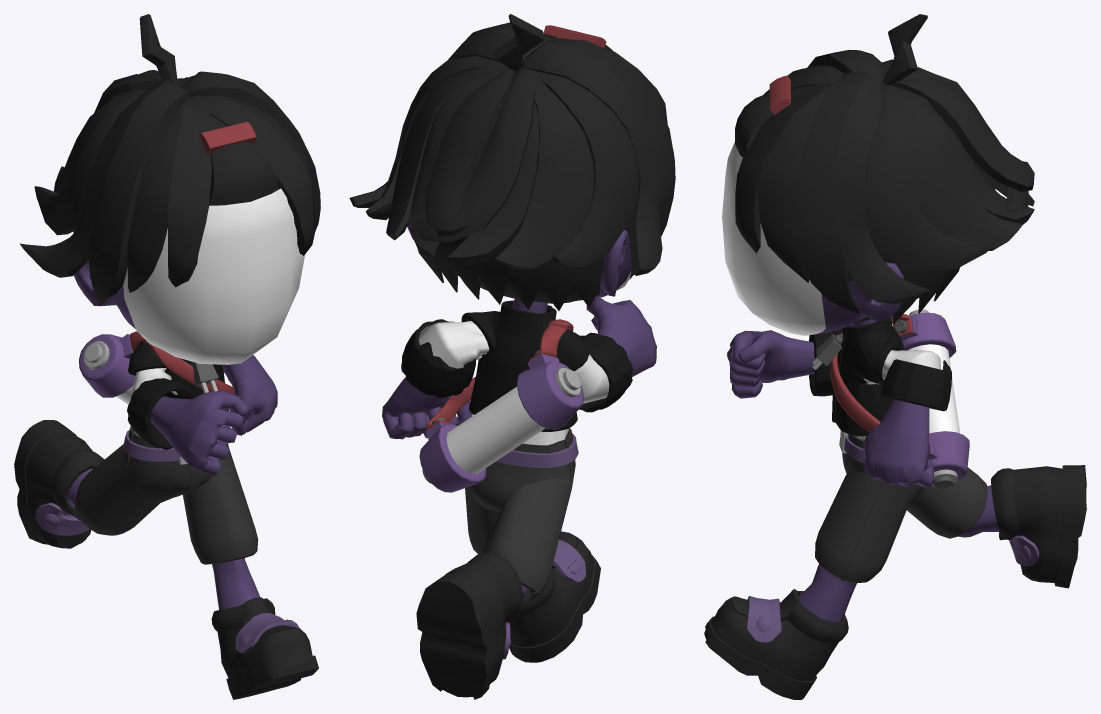
The model's file is E_run_01.fbx.
The picture shows the model from 3 angles, left to right: view 1: azimuth 30°, elevation 25°; view 2: azimuth 150°, elevation 25°; view 3: azimuth 270°, elevation 25°; orthographic projection. The views are drawn at different scales.
Parts seen in each view (by area): view 1: pPlane3, hair_mae, hair_yoko, zubonn, body4, kutu_main_migi, kutu_main_hidari, hair_usiro1, hair_age, polySurface1, uwagi2, hair_tuno (+10 smaller); view 2: hair_yoko, hair_usiro2, hair_usiro1, kutu_main_migi, polySurface1, zubonn, uwagi2, body4, hair_usiro5, uwagi1, hair_usiro4, hair_usiro3 (+9 smaller); view 3: hair_yoko, body4, zubonn, hair_mae, hair_usiro1, kutu_main_migi, kutu_main_hidari, pPlane3, hair_usiro2, polySurface1, uwagi1, hair_usiro4 (+11 smaller).
Part boxes in pixels (x1=…): pPlane3: x1=123, y1=188, x2=304, y2=364; hair_mae: x1=127, y1=95, x2=319, y2=292; hair_yoko: x1=19, y1=71, x2=320, y2=303; zubonn: x1=74, y1=425, x2=258, y2=564; body4: x1=66, y1=260, x2=277, y2=610; kutu_main_migi: x1=14, y1=420, x2=104, y2=548; kutu_main_hidari: x1=211, y1=598, x2=318, y2=699; hair_usiro1: x1=34, y1=94, x2=141, y2=235; hair_age: x1=209, y1=142, x2=278, y2=205; polySurface1: x1=79, y1=334, x2=135, y2=404; uwagi2: x1=127, y1=368, x2=196, y2=449; hair_tuno: x1=139, y1=14, x2=178, y2=85; hair_yoko: x1=349, y1=22, x2=675, y2=279; hair_usiro2: x1=386, y1=65, x2=593, y2=270; hair_usiro1: x1=365, y1=56, x2=639, y2=267; kutu_main_migi: x1=416, y1=552, x2=523, y2=699; polySurface1: x1=419, y1=350, x2=583, y2=492; zubonn: x1=465, y1=428, x2=575, y2=600; uwagi2: x1=401, y1=319, x2=633, y2=445; body4: x1=382, y1=221, x2=656, y2=599; hair_usiro5: x1=409, y1=67, x2=534, y2=242; uwagi1: x1=461, y1=300, x2=589, y2=431; hair_usiro4: x1=425, y1=69, x2=514, y2=235; hair_usiro3: x1=410, y1=69, x2=539, y2=264; hair_yoko: x1=793, y1=49, x2=932, y2=313; body4: x1=727, y1=262, x2=999, y2=622; zubonn: x1=815, y1=434, x2=987, y2=582; hair_mae: x1=735, y1=65, x2=844, y2=282; hair_usiro1: x1=865, y1=59, x2=994, y2=270; kutu_main_migi: x1=991, y1=465, x2=1086, y2=588; kutu_main_hidari: x1=704, y1=591, x2=848, y2=699; pPlane3: x1=722, y1=142, x2=825, y2=335; hair_usiro2: x1=885, y1=85, x2=1022, y2=250; polySurface1: x1=894, y1=309, x2=969, y2=488; uwagi1: x1=832, y1=317, x2=904, y2=436; hair_usiro4: x1=891, y1=77, x2=1034, y2=191.
Size of the model in its own units: 45.38 by 105 by 55.09.
